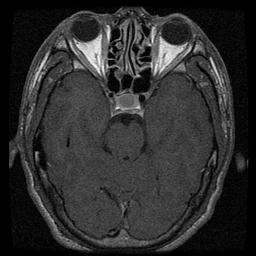Tumour-Pituitary: (112, 93, 142, 117)
